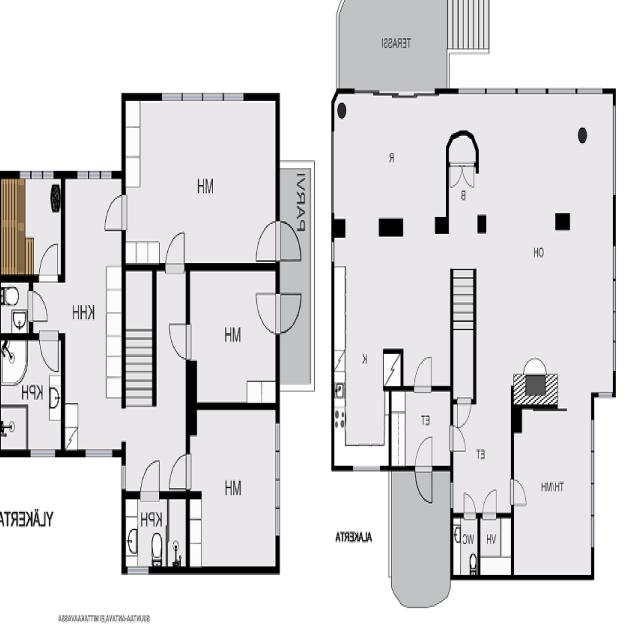door: (275, 293, 301, 333), (254, 293, 280, 333), (275, 221, 300, 259), (255, 221, 280, 259), (38, 236, 58, 282), (165, 226, 185, 271), (140, 456, 160, 499), (103, 194, 126, 230), (39, 332, 58, 375), (166, 453, 189, 488), (166, 324, 189, 358), (414, 355, 432, 392), (415, 432, 432, 471), (415, 465, 432, 503), (28, 291, 48, 320), (482, 484, 497, 518), (511, 478, 529, 506), (450, 425, 467, 452), (457, 400, 471, 432), (464, 488, 476, 518), (462, 163, 474, 189), (450, 163, 462, 189)
